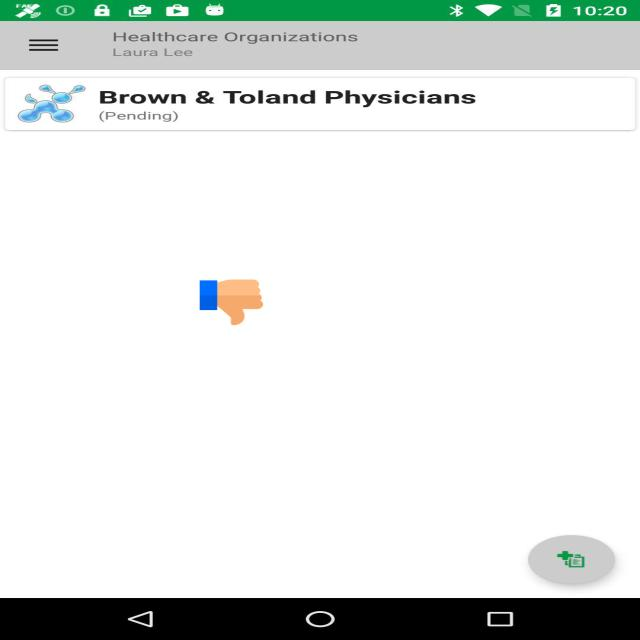obstruction: (200, 278, 263, 326)
